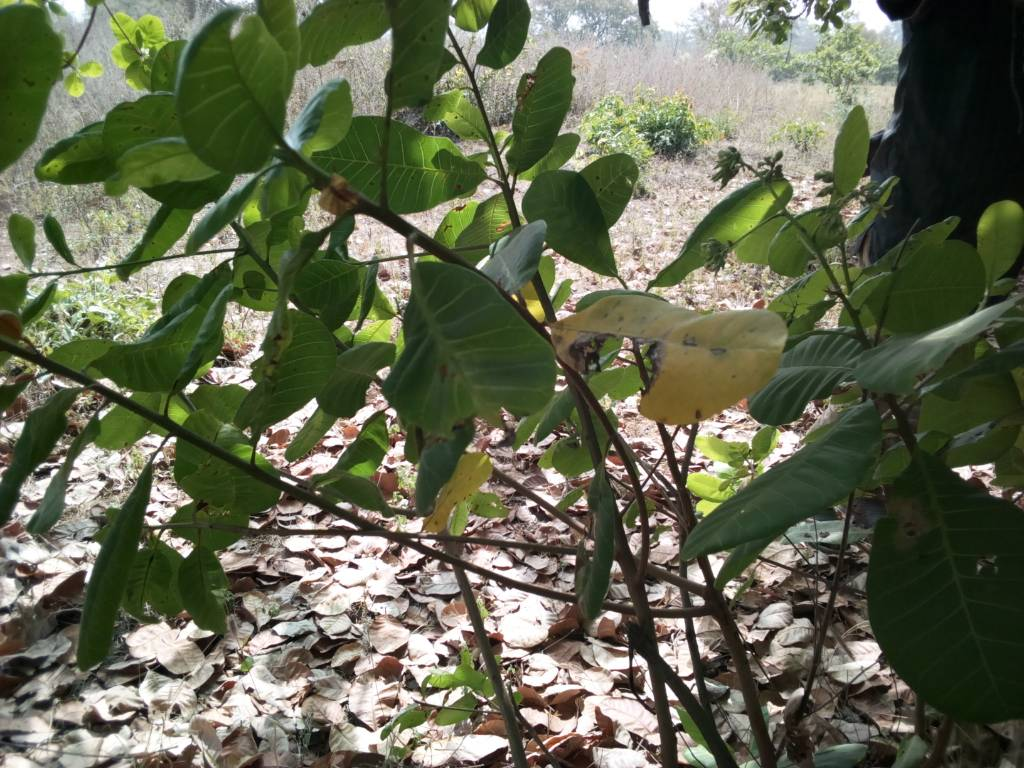Bactériose: (546, 294, 786, 423), (387, 259, 553, 427)
